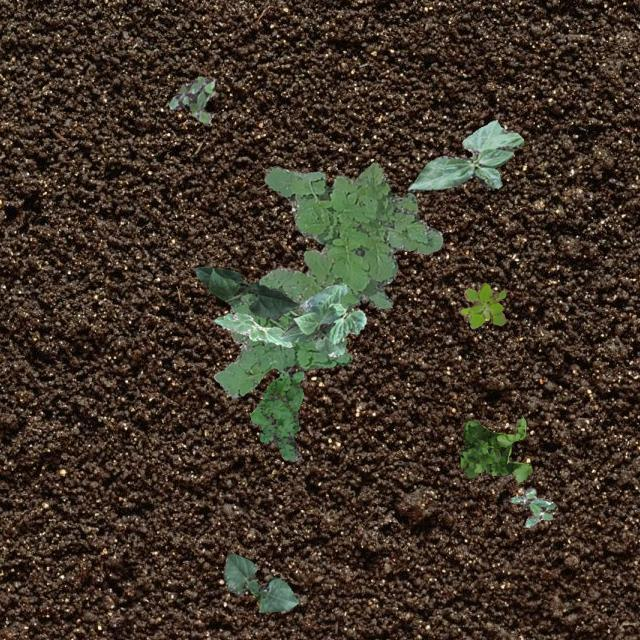crop: (407, 118, 522, 190), (280, 282, 364, 356), (194, 266, 298, 318), (222, 552, 298, 612), (213, 313, 290, 347)
weed: (213, 160, 442, 397), (248, 366, 302, 460), (458, 416, 532, 482), (168, 76, 214, 122), (460, 282, 504, 328), (508, 486, 554, 526)
